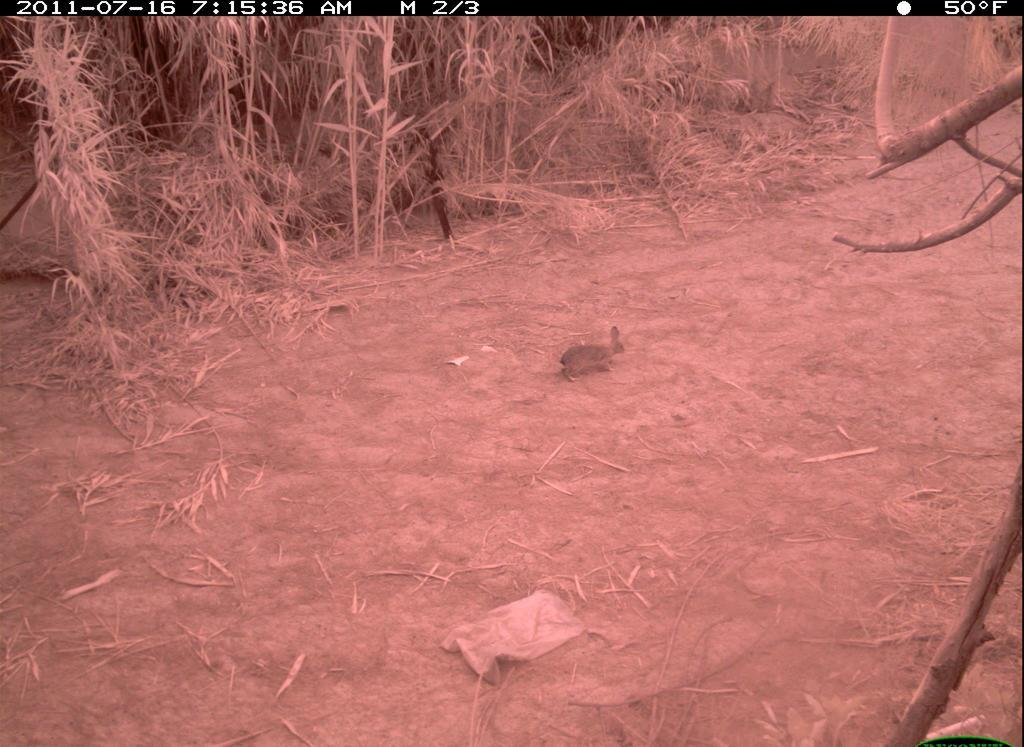rabbit: (551, 321, 641, 388)
